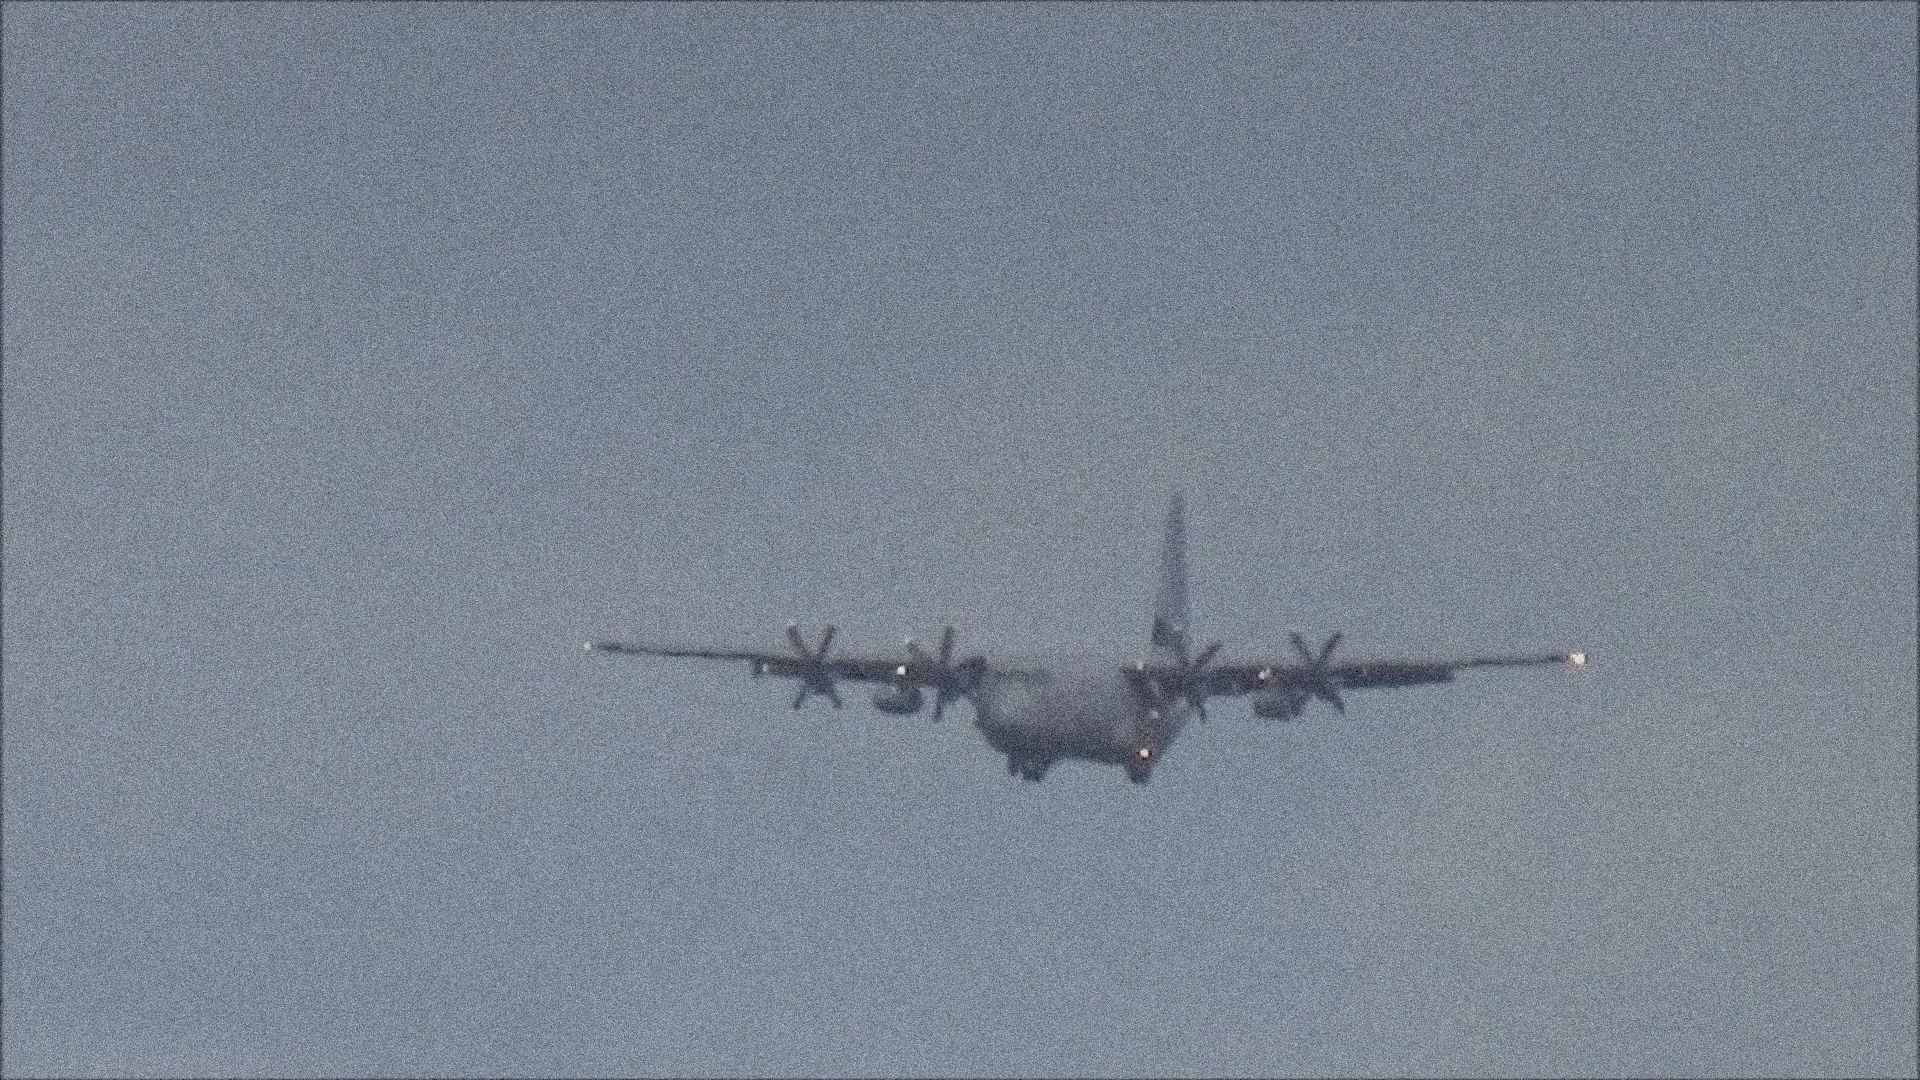Airplane: (576, 491, 1592, 783)
